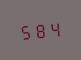eight: (33, 20, 46, 39)
five: (18, 21, 31, 40)
four: (47, 19, 60, 38)
